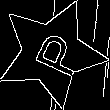P_NW: (20, 25, 83, 81)
